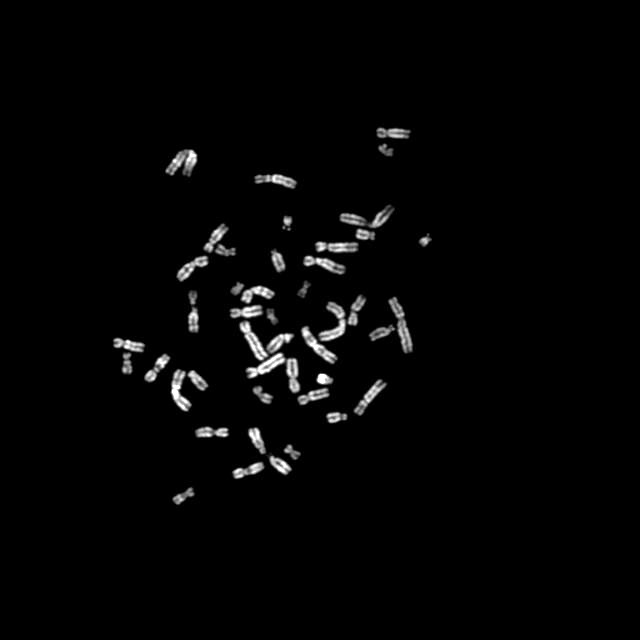chromosome: (388, 297, 412, 353), (302, 326, 336, 364), (341, 204, 393, 228), (354, 380, 386, 416), (240, 322, 268, 360), (319, 302, 345, 341), (247, 354, 286, 378), (165, 150, 197, 177), (171, 370, 191, 412), (176, 256, 208, 282), (304, 256, 344, 274), (146, 353, 170, 382), (254, 174, 296, 190), (204, 224, 228, 252), (241, 286, 275, 304), (348, 294, 366, 326), (266, 333, 294, 352), (298, 388, 330, 404), (232, 462, 264, 478), (286, 358, 300, 392), (248, 428, 266, 454), (270, 456, 292, 476), (316, 242, 358, 252), (114, 338, 144, 352), (369, 325, 395, 341), (188, 371, 208, 391), (231, 306, 263, 318), (172, 488, 194, 504), (377, 128, 411, 138), (271, 248, 285, 272), (254, 386, 272, 404), (196, 427, 228, 437), (284, 444, 300, 460), (356, 228, 376, 240), (188, 308, 198, 332), (215, 245, 235, 257), (327, 412, 347, 423), (298, 280, 310, 298), (122, 352, 132, 373), (418, 233, 432, 247), (266, 309, 278, 325), (379, 144, 393, 156), (231, 282, 243, 296), (317, 374, 333, 384), (282, 216, 292, 230), (189, 290, 197, 304)
